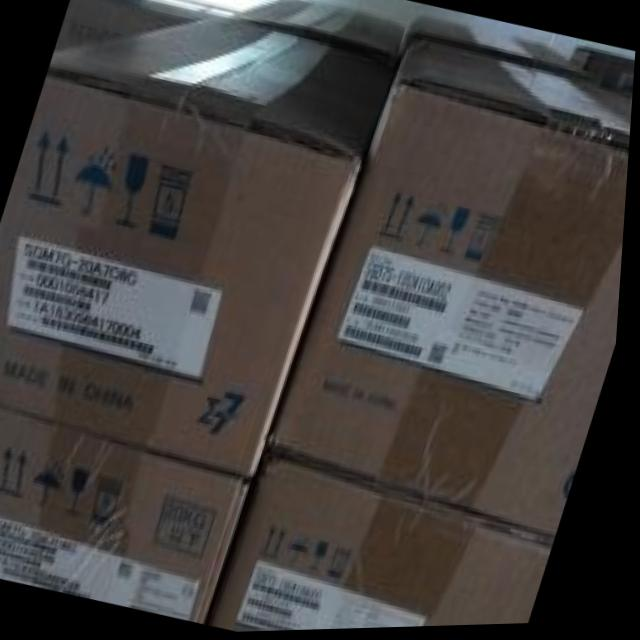box: (0, 18, 404, 477), (277, 38, 633, 542), (218, 462, 560, 633), (0, 405, 255, 625), (403, 18, 604, 87), (230, 0, 405, 66)
